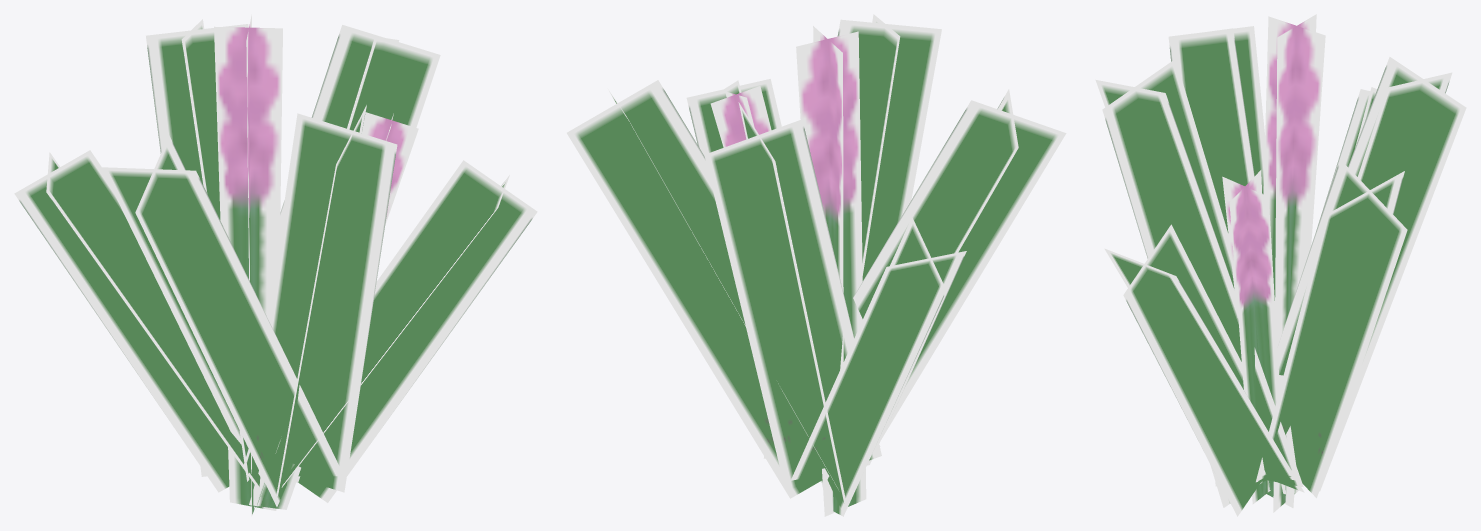
File: Mint.fbx
3 renders of one model, left to right at view 1: azimuth 30°, elevation 25°; view 2: azimuth 150°, elevation 25°; view 3: azimuth 270°, elevation 25°, orthographic.
Parts seen in each view (by area): view 1: polySurface389; view 2: polySurface389; view 3: polySurface389.
Part boxes in pixels (x1,y1,x2,y2): polySurface389: (14,14,537,516); polySurface389: (567,14,1066,516); polySurface389: (1095,14,1466,516).
Size of the model in its own units: 0.572 by 0.6866 by 0.4794.
